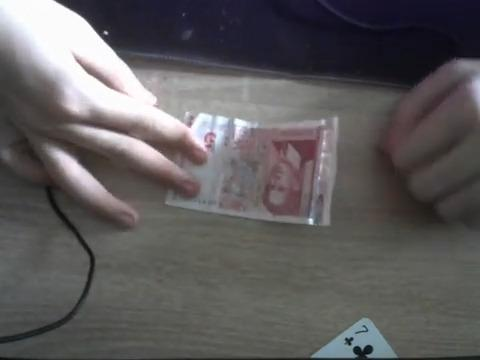5leva: (166, 113, 338, 226)
